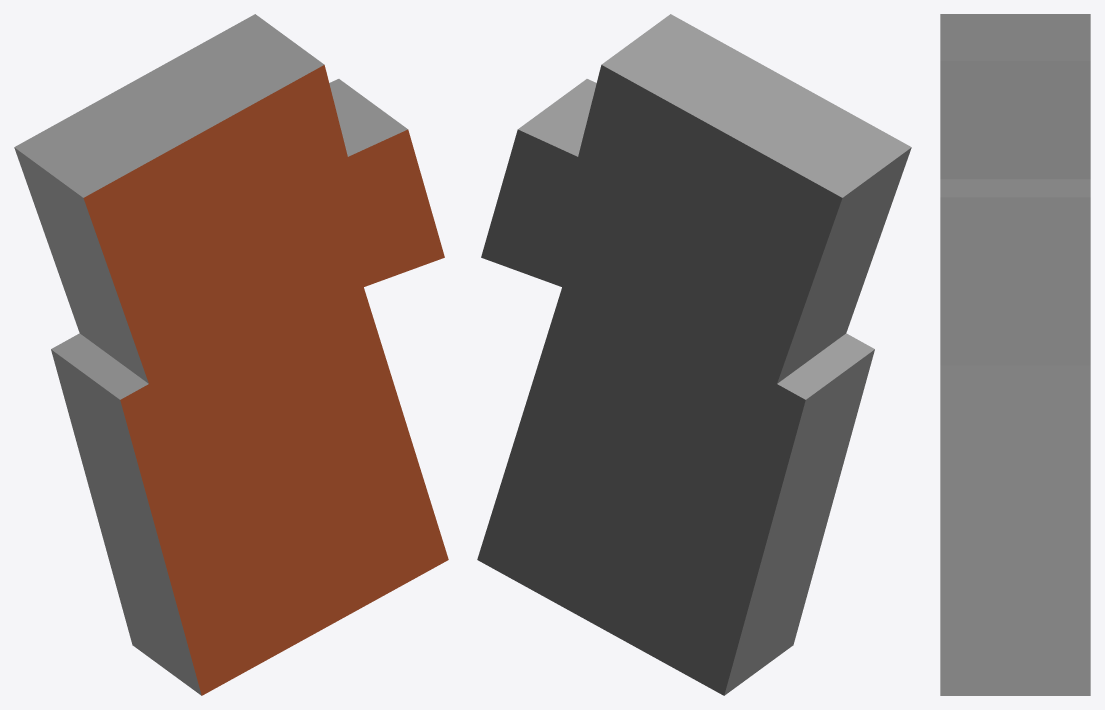
The model's file is construction_5672_assumed_A_Casa_h6m.obj.
3 views of the same model, side by side, from view 1: azimuth 30°, elevation 25°; view 2: azimuth 150°, elevation 25°; view 3: azimuth 270°, elevation 25° (orthographic). The views are drawn at different scales.
Visible parts, largest first — view 1: construction_5672_assumed_A_Casa; view 2: construction_5672_assumed_A_Casa; view 3: construction_5672_assumed_A_Casa.
Part boxes in pixels (x1,y1,x2,y2): construction_5672_assumed_A_Casa: (14, 14, 448, 695); construction_5672_assumed_A_Casa: (477, 14, 911, 695); construction_5672_assumed_A_Casa: (940, 14, 1090, 695).
Size of the model in its own units: 18.26 by 28.72 by 6.
